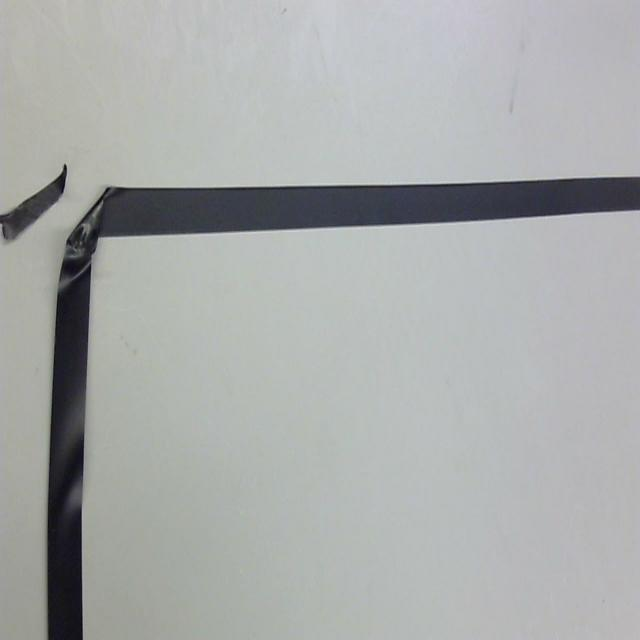tape: (32, 153, 640, 640), (0, 143, 82, 264)
